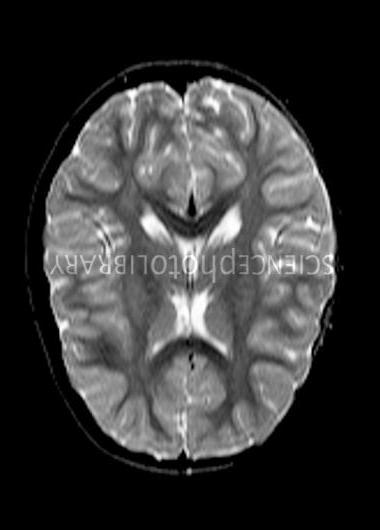Normal_Brain: (21, 17, 380, 530)
